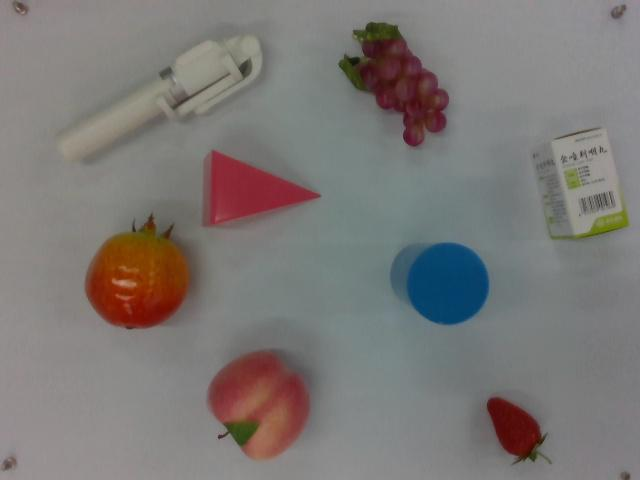carton: (528, 128, 631, 243)
cylinder: (388, 237, 492, 329)
grape: (338, 20, 452, 146)
peach: (205, 349, 314, 465)
pomegranate: (81, 213, 193, 333)
pyramid: (202, 147, 323, 232)
selfiestick: (56, 31, 266, 167)
strawberry: (484, 389, 556, 467)
